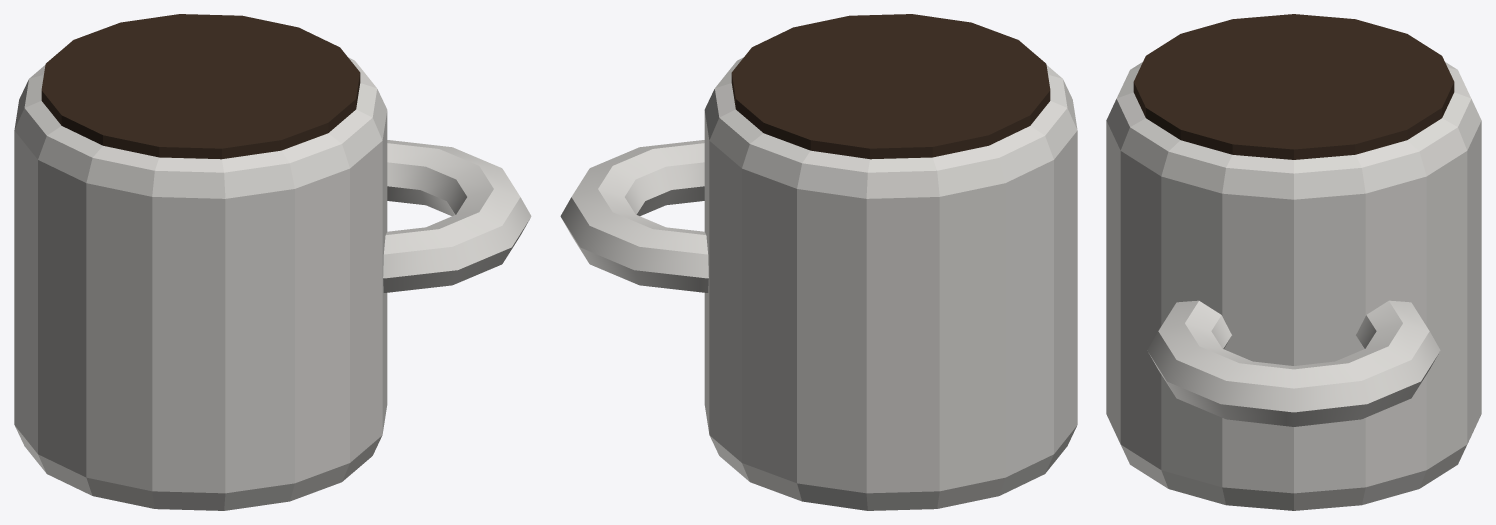
Rendered from mug.glb.
The picture shows the model from 3 angles, left to right: view 1: azimuth 30°, elevation 25°; view 2: azimuth 150°, elevation 25°; view 3: azimuth 270°, elevation 25°; orthographic projection.
Parts seen in each view (by area): view 1: body; view 2: body; view 3: body.
Boxes of the visible parts, box(x1,y1,x2,y2) form: body: box(14, 14, 531, 510); body: box(560, 14, 1077, 510); body: box(1106, 14, 1481, 510).
Bounding box in the file's own units: 0.16 × 0.1175 × 0.11.
